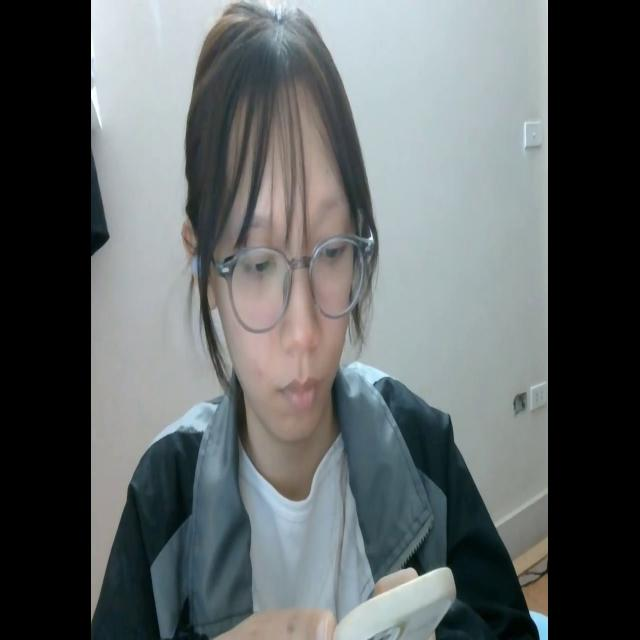phone: (329, 559, 457, 640)
student: (100, 6, 538, 640)
